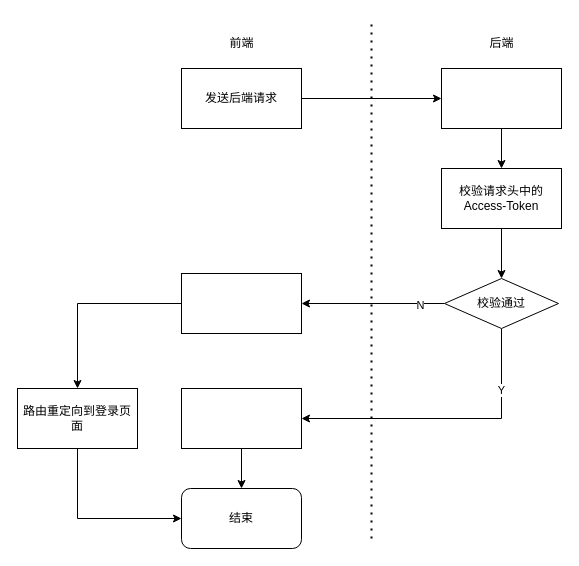
Some shapes in this 579 by 566 pixel diagram are drawn without their labels. The shapes that lost their labels are listed below. From the top down, each one's centre as x and y in pixels, then its label:
point 501,98: 接收到请求
point 241,303: 错误的登录态
point 241,418: 正常请求
